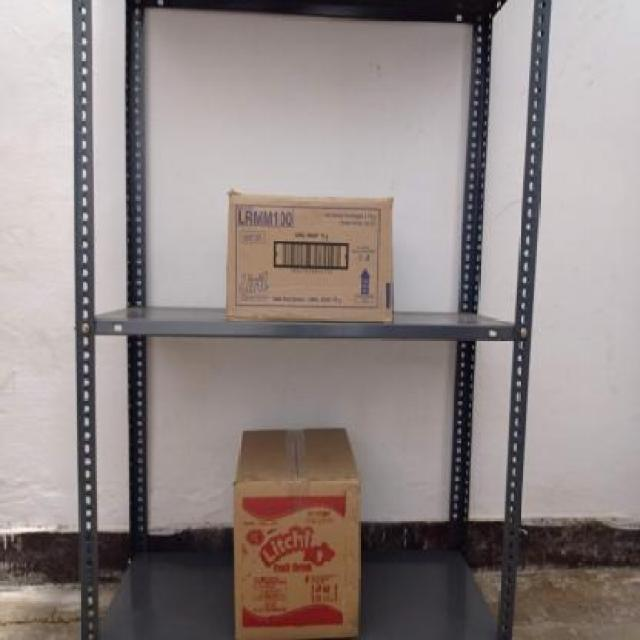box: (224, 193, 396, 324), (231, 478, 361, 640)
